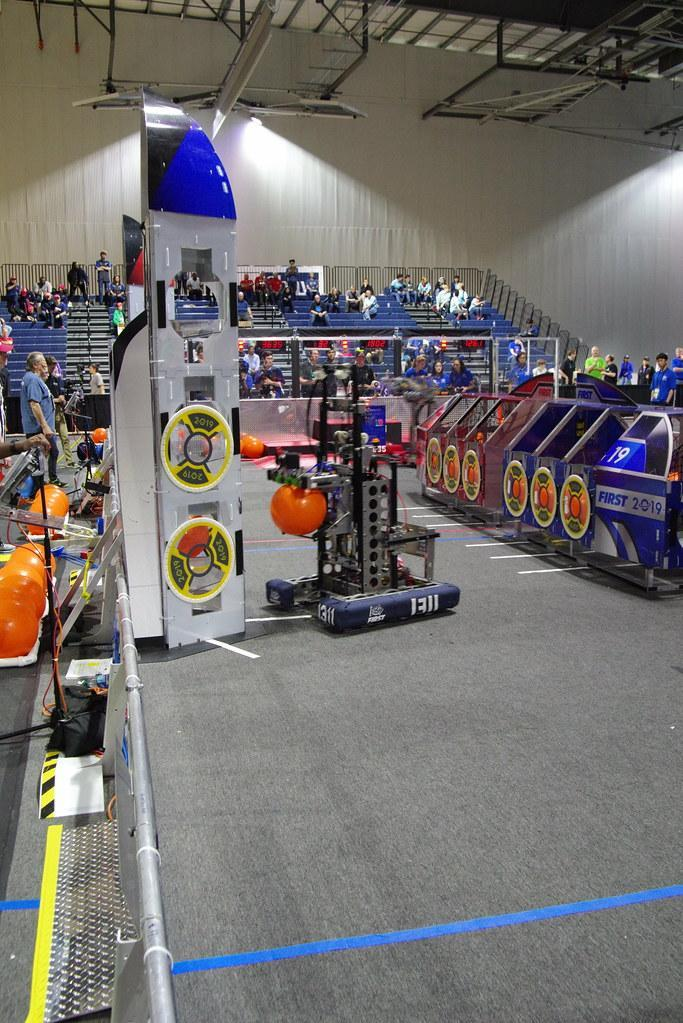robot: (262, 354, 462, 638)
